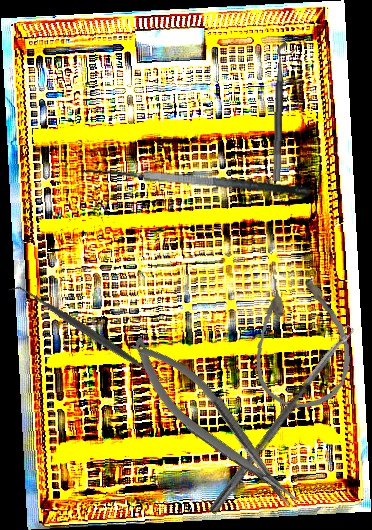Cannula: (249, 270, 354, 411)
Fixation Ring: (272, 42, 297, 182)
Needle Holder: (119, 324, 306, 524)
Spatula Surgical: (6, 273, 175, 394), (79, 157, 311, 217)
Surgical Spoon: (208, 324, 356, 516)
